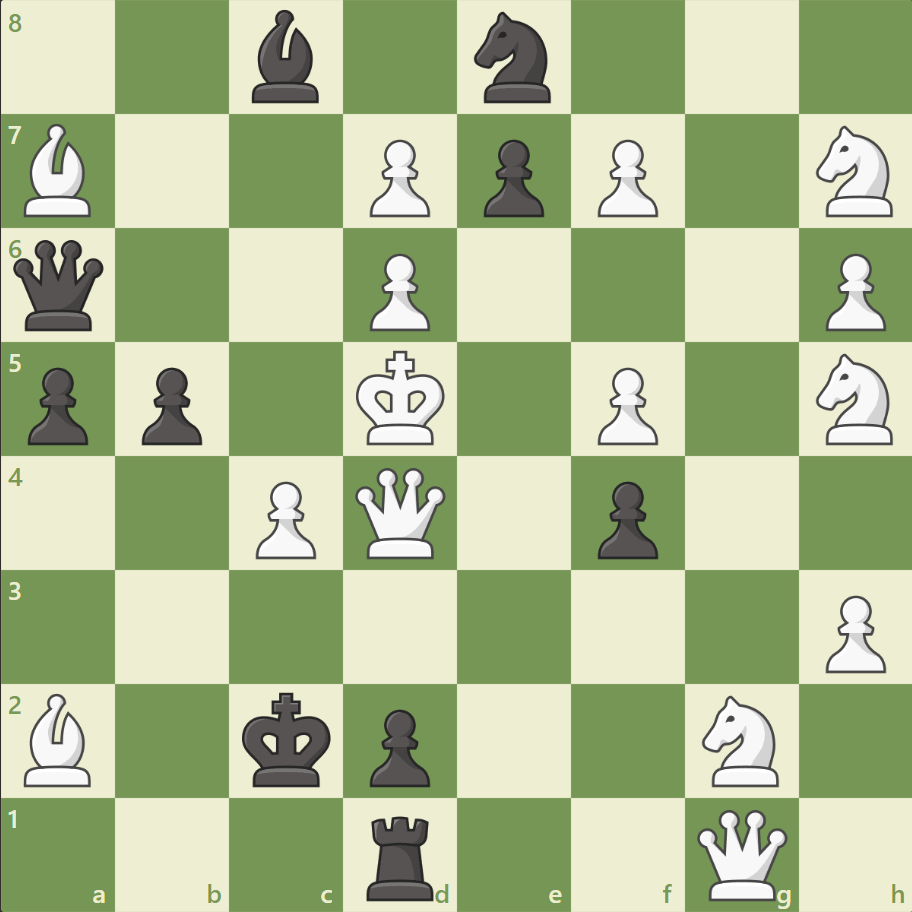B: (17, 687, 101, 790), (17, 120, 101, 222)
K: (351, 344, 451, 452)
N: (692, 688, 789, 791), (806, 121, 903, 223), (806, 348, 903, 450)
P: (247, 473, 322, 564), (361, 132, 435, 223), (588, 132, 662, 223), (361, 246, 435, 337), (815, 246, 889, 337), (588, 359, 662, 450), (815, 586, 889, 677)
Q: (351, 463, 450, 562), (691, 804, 790, 903)
b: (244, 6, 328, 109)
k: (238, 685, 338, 793)
n: (465, 7, 562, 110)
p: (474, 132, 549, 223), (20, 359, 95, 450), (133, 359, 208, 450), (588, 473, 662, 564), (361, 700, 435, 791)
q: (10, 236, 109, 335)
r: (360, 806, 442, 904)
